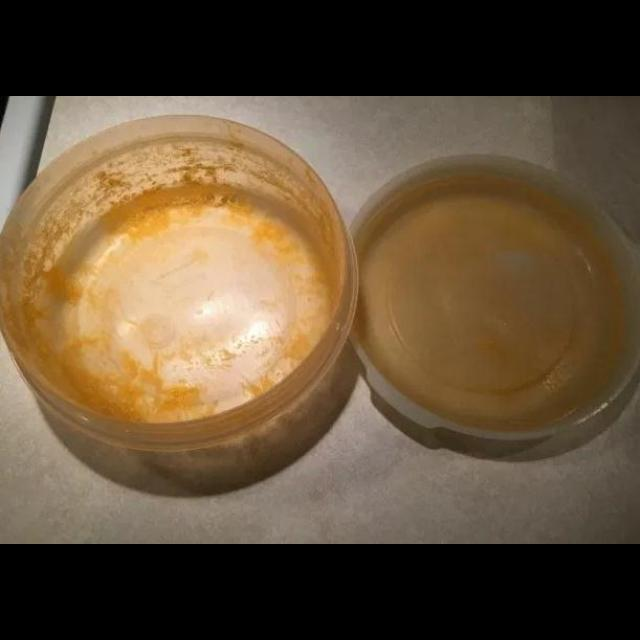plastic_box: (0, 109, 638, 453)
